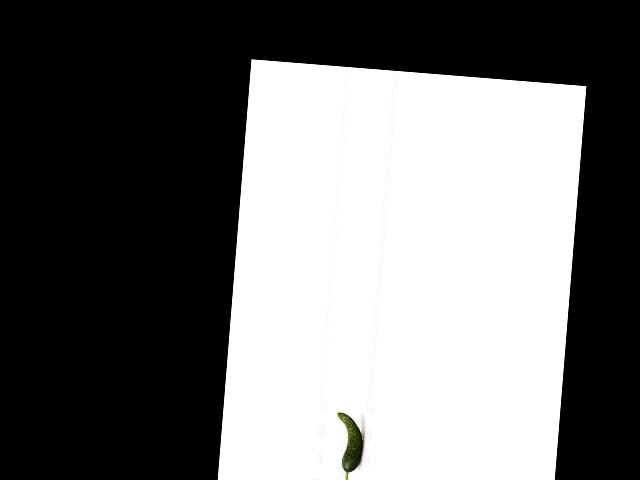cucumber: (332, 412, 365, 480)
